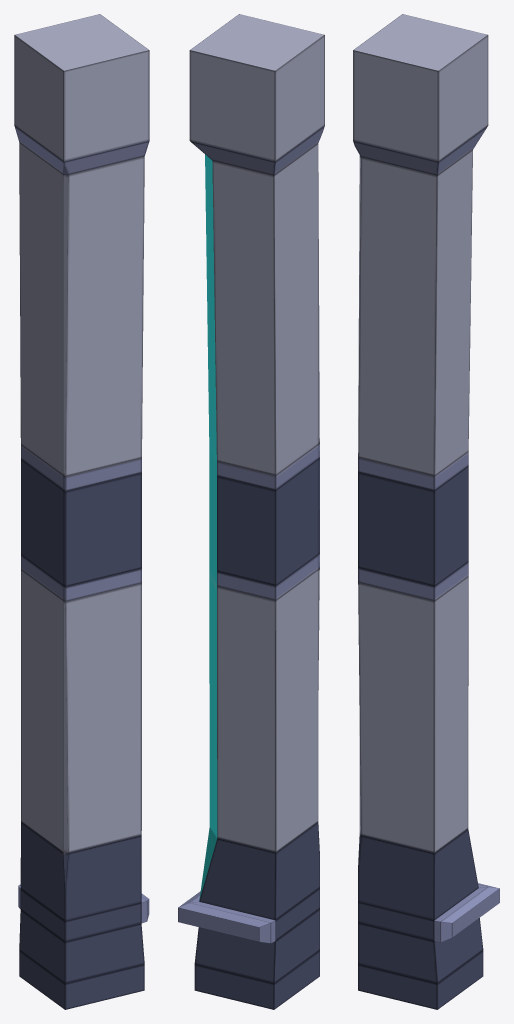
Rendered from corner lobby fixed.fbx.
3 renders of one model, left to right at view 1: azimuth 30°, elevation 25°; view 2: azimuth 150°, elevation 25°; view 3: azimuth 330°, elevation 25°, orthographic.
Visible parts, largest first — view 1: Cube.004; view 2: Cube.004; view 3: Cube.004.
Boxes of the visible parts, x1,y1,x2,y2 form: Cube.004: [14, 14, 149, 1009]; Cube.004: [178, 14, 324, 1009]; Cube.004: [353, 14, 499, 1009].
Size of the model in its own units: 34.81 by 339 by 35.46.
